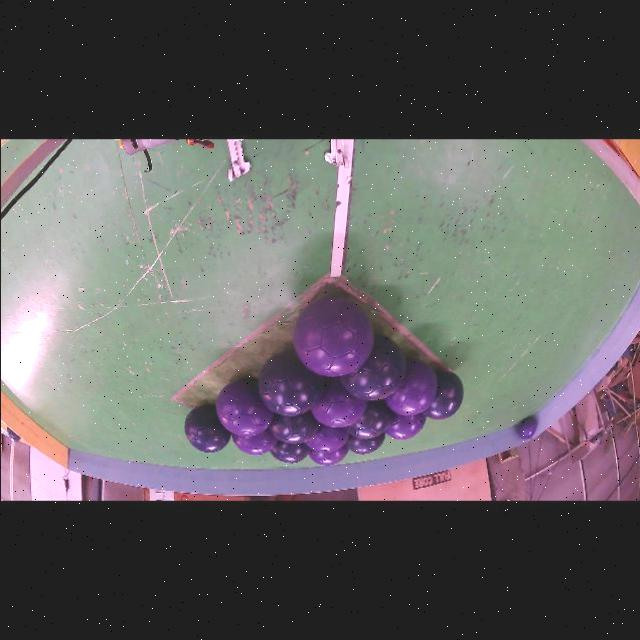B: (257, 350, 323, 415), (340, 334, 404, 399), (183, 404, 231, 452), (422, 370, 462, 419), (344, 399, 393, 438), (268, 409, 319, 443), (270, 439, 310, 462), (345, 432, 384, 453)
P: (292, 296, 373, 375), (216, 378, 272, 435), (384, 357, 437, 414), (311, 376, 367, 427), (305, 423, 348, 452), (231, 428, 277, 454), (384, 412, 424, 439), (309, 444, 348, 464), (515, 415, 536, 438)
